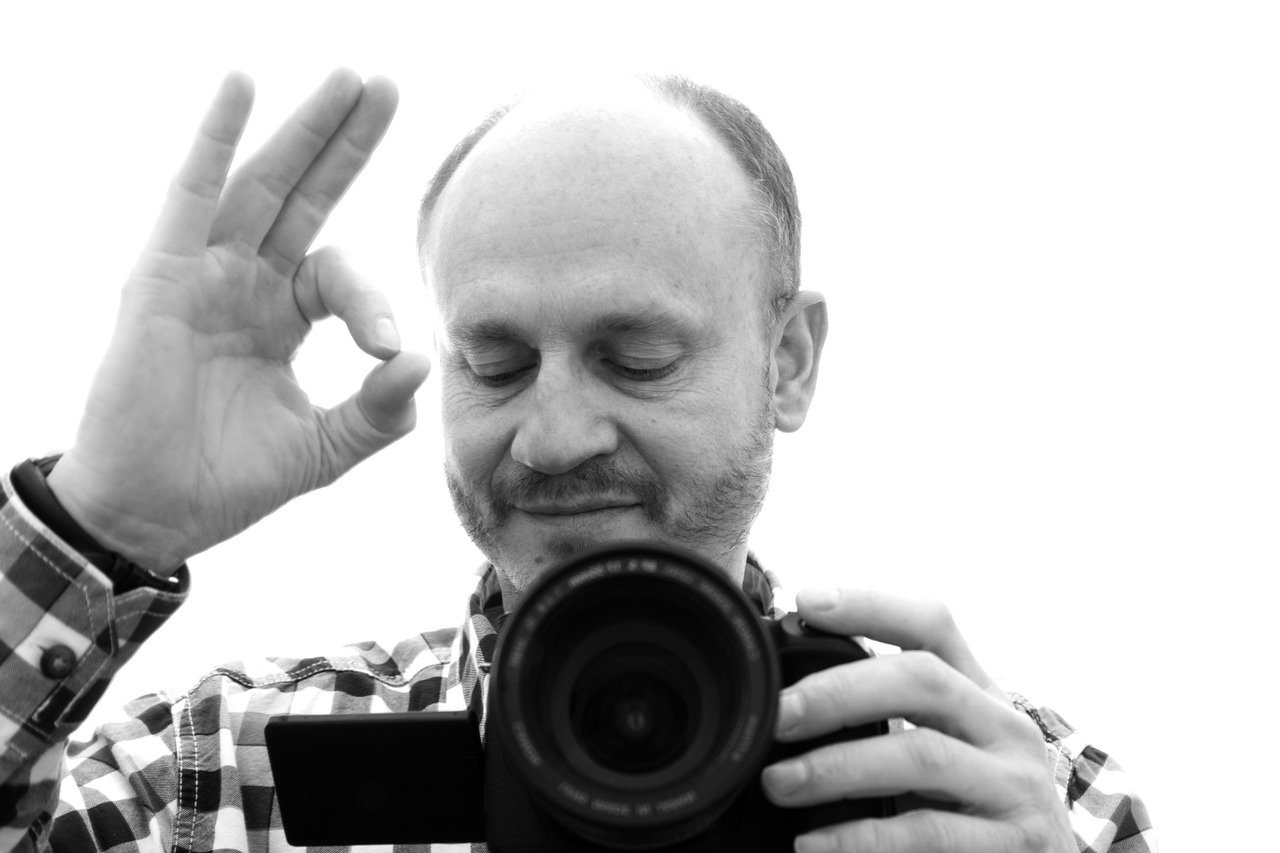oksign: (146, 85, 422, 532)
